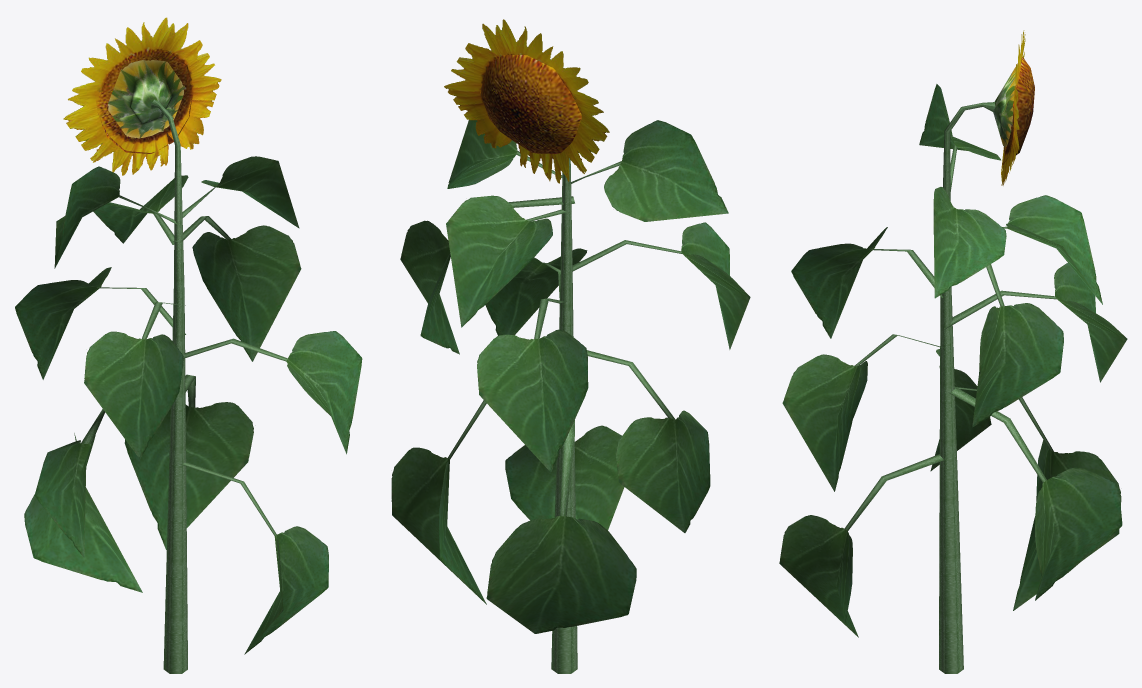
File: SunFlower.FBX
3 renders of one model, left to right at view 1: azimuth 30°, elevation 25°; view 2: azimuth 150°, elevation 25°; view 3: azimuth 270°, elevation 25°, orthographic. The views are drawn at different scales.
Parts seen in each view (by area): view 1: SunFlower; view 2: SunFlower; view 3: SunFlower.
Part boxes in pixels (bbox=[...]): SunFlower: bbox=[15, 17, 362, 673]; SunFlower: bbox=[391, 19, 750, 673]; SunFlower: bbox=[779, 30, 1127, 673].
Bounding box in the file's own units: 94.29 × 202 × 100.
